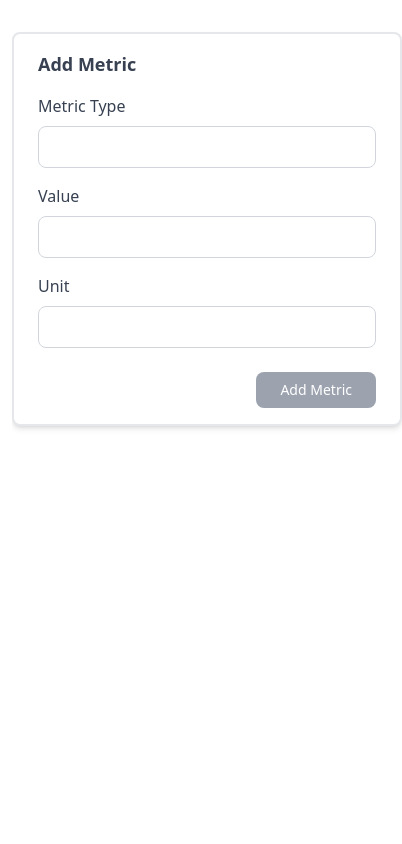
AddMetricForm › shows error message when metric creation fails
This screenshot has width=402, height=844.
Type "Speed" into the field labelled "Metric Type".
click(207, 147); type("Speed")  # box x1=38 y1=126 x2=376 y2=168
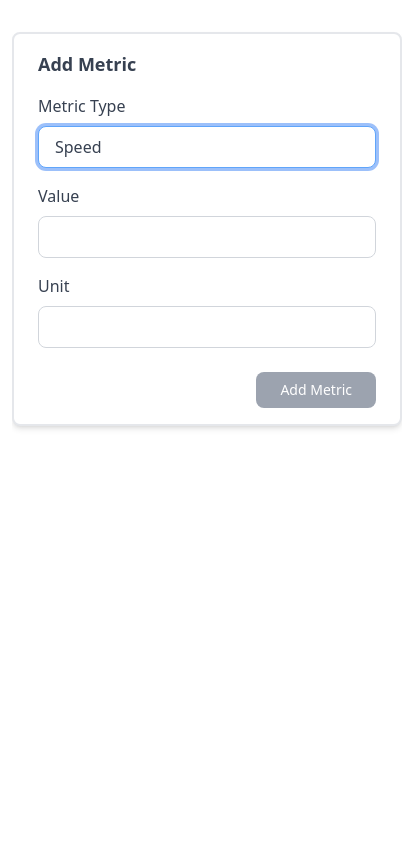
Type "10" into the number field labelled "Value".
click(207, 237); type("10")  # box x1=38 y1=216 x2=376 y2=258
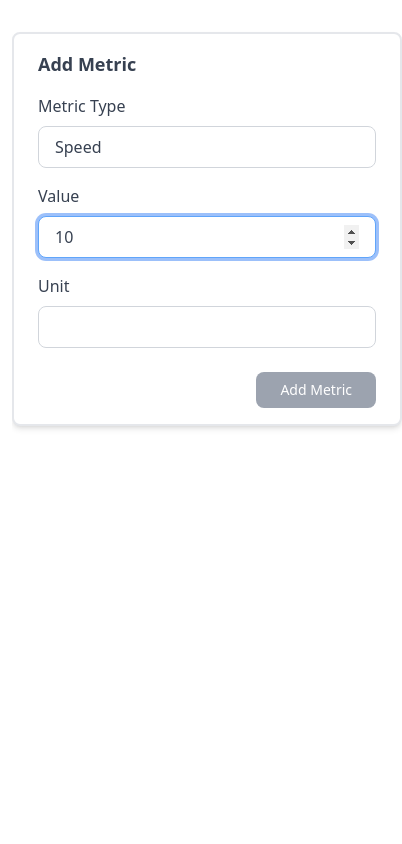
Type "m/s" into the field labelled "Unit".
click(207, 327); type("m/s")  # box x1=38 y1=306 x2=376 y2=348
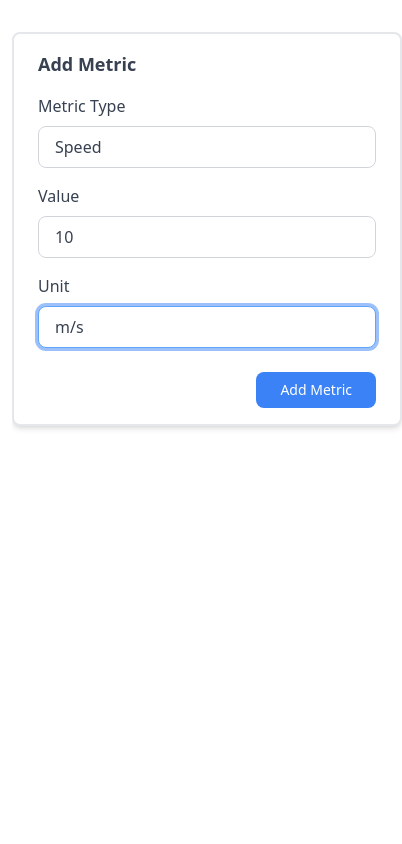
Click the button "Add Metric".
click(316, 390)  # box x1=256 y1=372 x2=376 y2=408
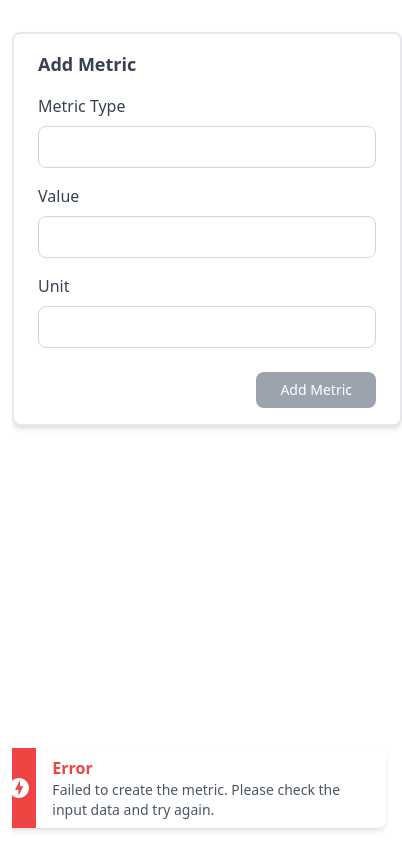
Expected: the text "Failed to create the metric. Please check the input data and try again." is shown, x1=52 y1=780 x2=370 y2=820
